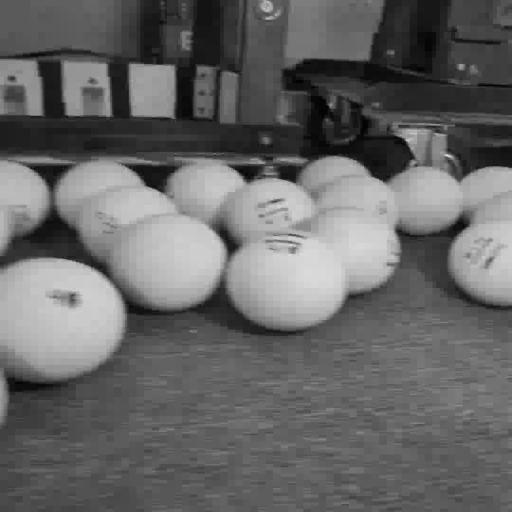fuel: (0, 258, 127, 383), (224, 230, 348, 331), (106, 214, 228, 312), (302, 208, 401, 295), (78, 186, 178, 263), (54, 160, 145, 228), (224, 178, 316, 244), (448, 221, 511, 307), (165, 162, 246, 228), (388, 166, 462, 235), (316, 176, 397, 227), (0, 160, 51, 236), (296, 156, 371, 198), (461, 167, 511, 220), (471, 192, 511, 223), (0, 206, 13, 255), (0, 369, 8, 425)
